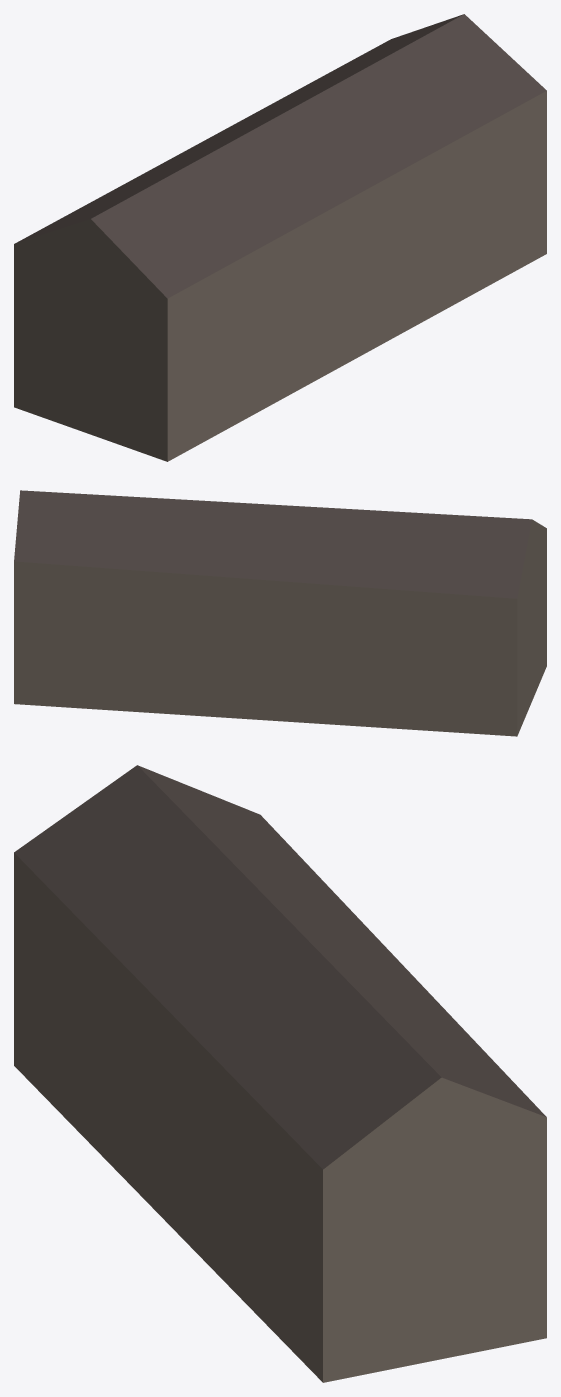
3 views of the same model, one above another, from view 1: azimuth 30°, elevation 25°; view 2: azimuth 150°, elevation 25°; view 3: azimuth 270°, elevation 25° (orthographic). The views are drawn at different scales.
Parts seen in each view (by area): view 1: HP-w505643588; view 2: HP-w505643588; view 3: HP-w505643588.
Part boxes in pixels (box(x1,y1,x2,y2)): HP-w505643588: box(14, 14, 546, 461); HP-w505643588: box(14, 490, 546, 736); HP-w505643588: box(14, 765, 546, 1382).
Size of the model in its own units: 21.42 by 7.93 by 13.59.
